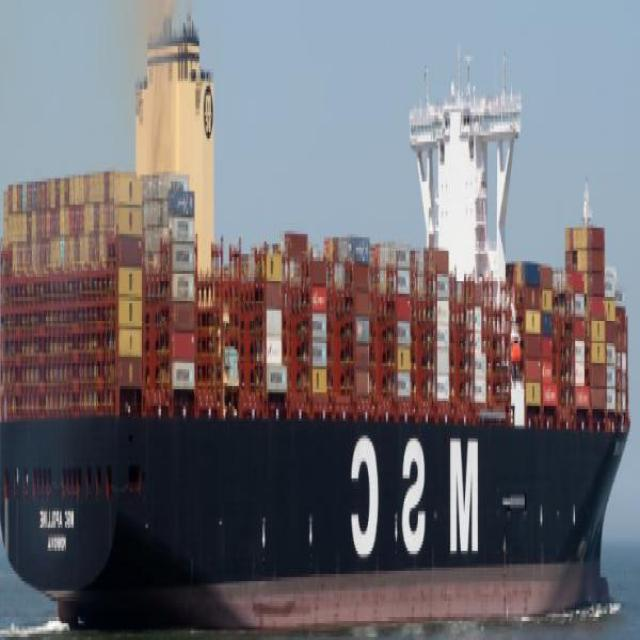Container Ship: (2, 17, 629, 632)
